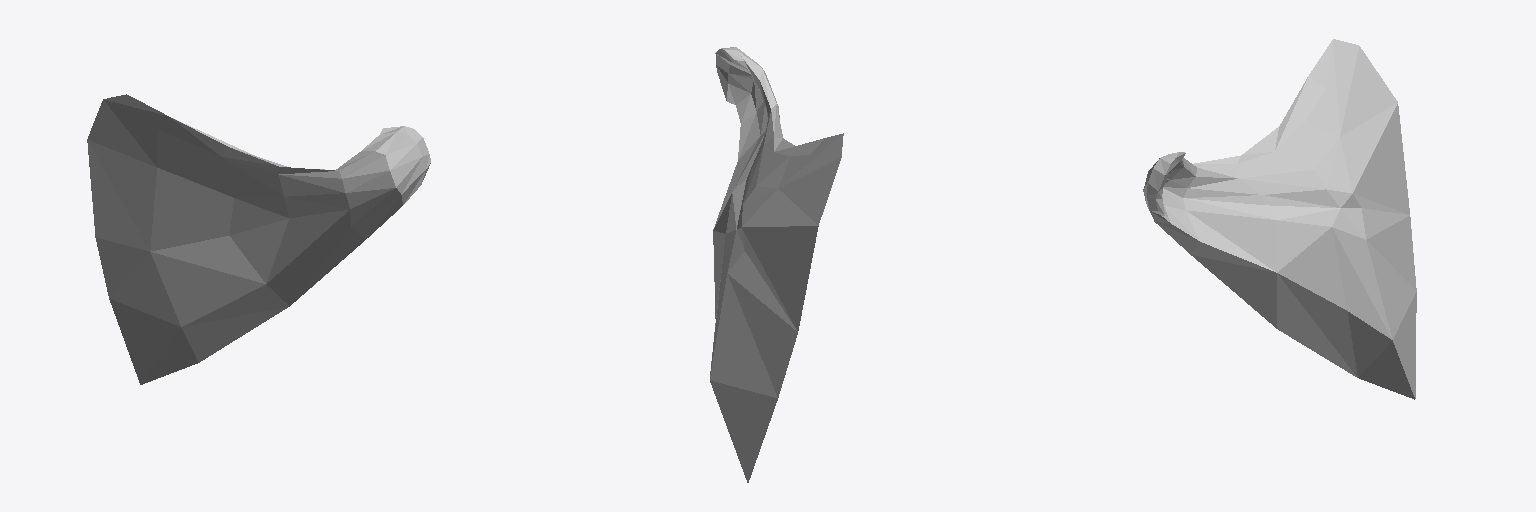
The model's file is muscle_1_right.obj.
3 views of the same model, side by side, from view 1: azimuth 30°, elevation 25°; view 2: azimuth 150°, elevation 25°; view 3: azimuth 270°, elevation 25° (orthographic).
Parts seen in each view (by area): view 1: muscle_1_right_3DAnatomyModel_Torso.049; view 2: muscle_1_right_3DAnatomyModel_Torso.049; view 3: muscle_1_right_3DAnatomyModel_Torso.049.
Part boxes in pixels (x1,y1,x2,y2): muscle_1_right_3DAnatomyModel_Torso.049: (87,94,430,384); muscle_1_right_3DAnatomyModel_Torso.049: (710,47,843,482); muscle_1_right_3DAnatomyModel_Torso.049: (1143,39,1416,399).
Bounding box in the file's own units: 1.21 × 1.71 × 1.27.